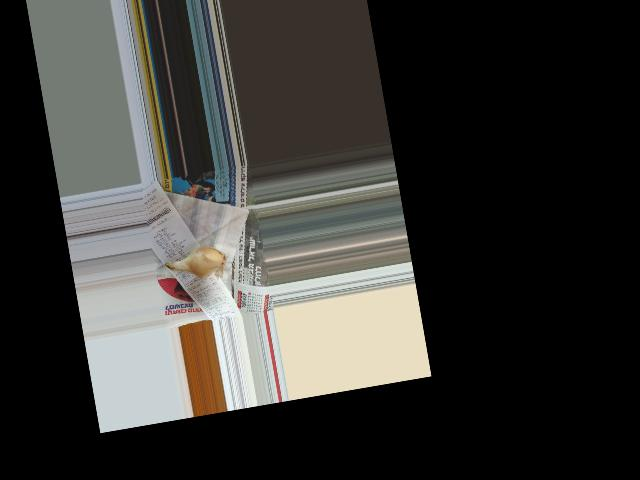onion: (178, 242, 226, 279)
